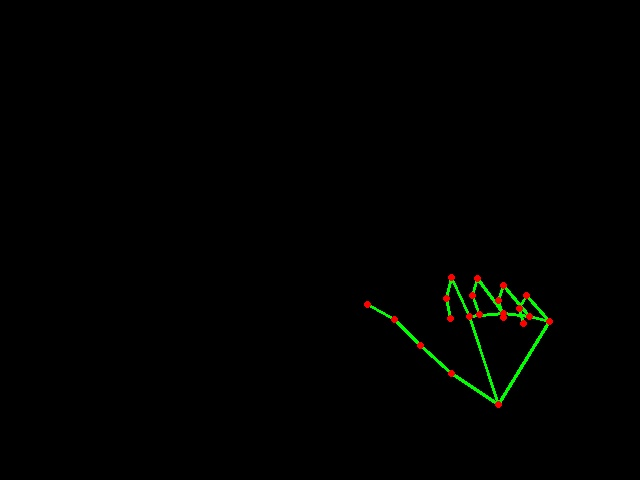right: (349, 260, 562, 419)
